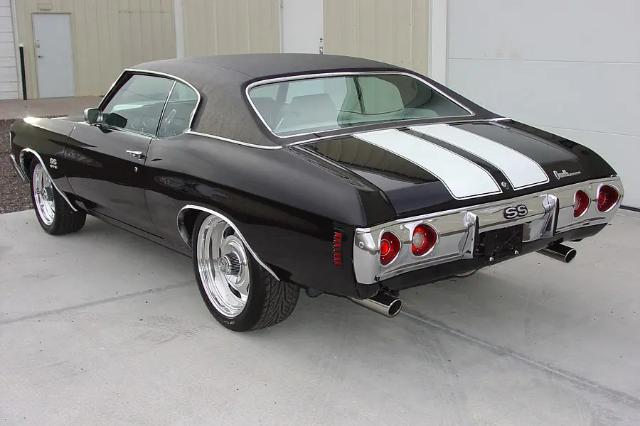chevelle-1972: (11, 53, 624, 331)
